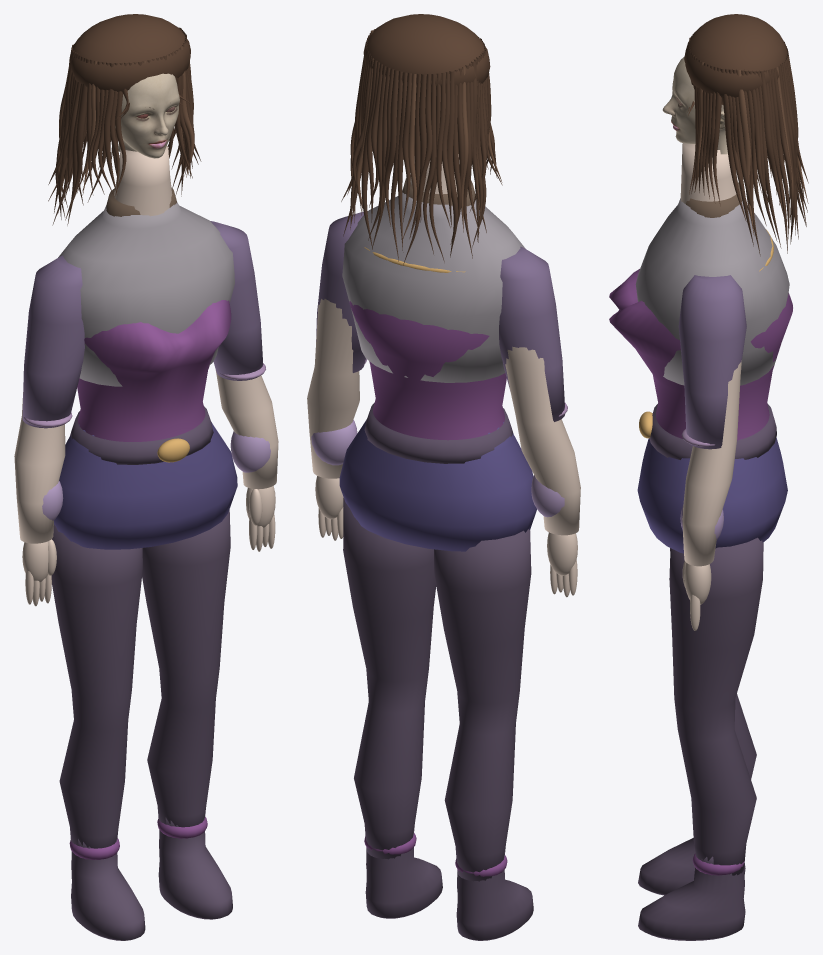
File: katie_punch_4.glb
3 renders of one model, left to right at view 1: azimuth 30°, elevation 25°; view 2: azimuth 150°, elevation 25°; view 3: azimuth 270°, elevation 25°, orthographic. The views are drawn at different scales.
Parts seen in each view (by area): view 1: Continuous trouser leg, Continuous trouser leg.001, Katie linen underlayer, Fitted hip panel, Violet sweetheart bodice, Katie hair locks, Katie smooth sleeve, Katie hair crown, Fitted boot.001, Fitted boot, Continuous arm, Katie smooth sleeve.001 (+12 smaller); view 2: Continuous trouser leg, Continuous trouser leg.001, Katie linen underlayer, Katie hair locks, Fitted hip panel, Violet sweetheart bodice, Continuous arm, Katie smooth sleeve, Katie hair crown, Continuous arm.001, Fitted boot.001, Fitted boot (+7 smaller); view 3: Continuous trouser leg.001, Katie linen underlayer, Katie hair locks, Katie smooth sleeve.001, Fitted hip panel, Violet sweetheart bodice, Katie hair crown, Fitted boot.001, Continuous arm.001, Fitted boot, Waist belt, Imported Katie katie (+6 smaller).
Boxes of the visible parts, x1,y1,x2,y2 form: Continuous trouser leg: (51,524,142,848); Continuous trouser leg.001: (142,509,230,827); Katie linen underlayer: (58,202,234,386); Fitted hip panel: (54,422,237,549); Violet sweetheart bodice: (77,300,231,441); Katie hair locks: (48,29,201,225); Katie smooth sleeve: (22,255,84,428); Katie hair crown: (69,14,190,92); Fitted boot.001: (158,812,232,919); Fitted boot: (71,834,145,940); Continuous arm: (14,392,65,543); Katie smooth sleeve.001: (210,221,263,380); Continuous trouser leg: (434,529,531,881); Continuous trouser leg.001: (343,498,436,859); Katie linen underlayer: (342,190,525,382); Katie hair locks: (341,29,502,265); Fitted hip panel: (339,419,536,551); Violet sweetheart bodice: (349,301,506,440); Continuous arm: (505,346,580,535); Katie smooth sleeve: (499,246,564,421); Katie hair crown: (363,14,490,88); Continuous arm.001: (307,299,359,478); Fitted boot.001: (365,830,442,918); Fitted boot: (456,852,533,940); Continuous trouser leg.001: (669,537,763,875); Katie linen underlayer: (635,198,789,385); Katie hair locks: (687,32,808,256); Katie smooth sleeve.001: (678,275,746,449); Fitted hip panel: (637,437,787,553); Violet sweetheart bodice: (609,269,792,440); Katie hair crown: (684,14,787,104); Fitted boot.001: (638,856,745,940); Continuous arm.001: (682,360,741,566); Fitted boot: (638,838,745,895); Waist belt: (649,403,776,459); Imported Katie katie: (662,56,727,154).
Bounding box in the file's own units: 0.6866 × 2.23 × 0.4567.
15 materials, 2 textured.
